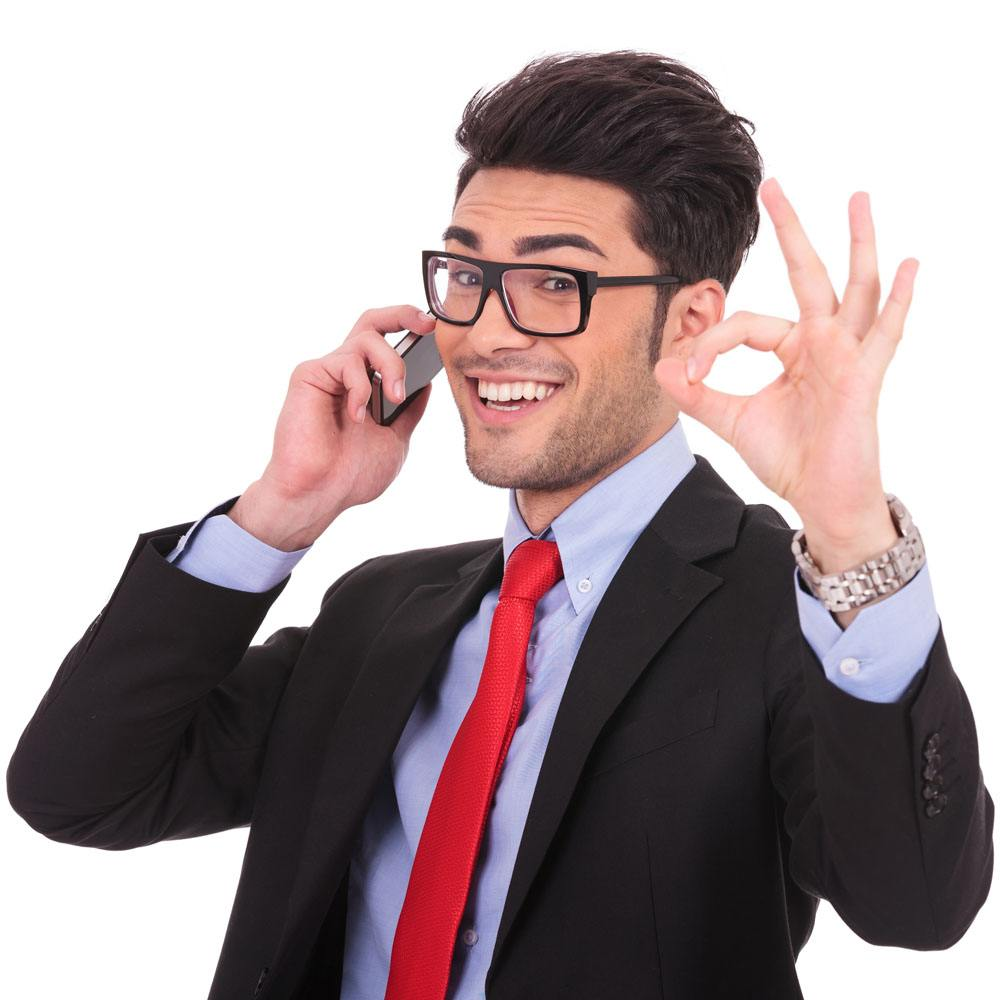calling: (263, 295, 447, 511)
no-phone: (660, 177, 920, 519)
